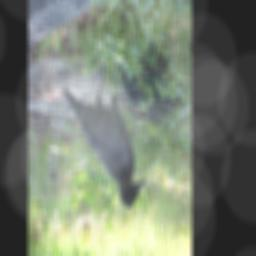Crow: (59, 68, 146, 209)
